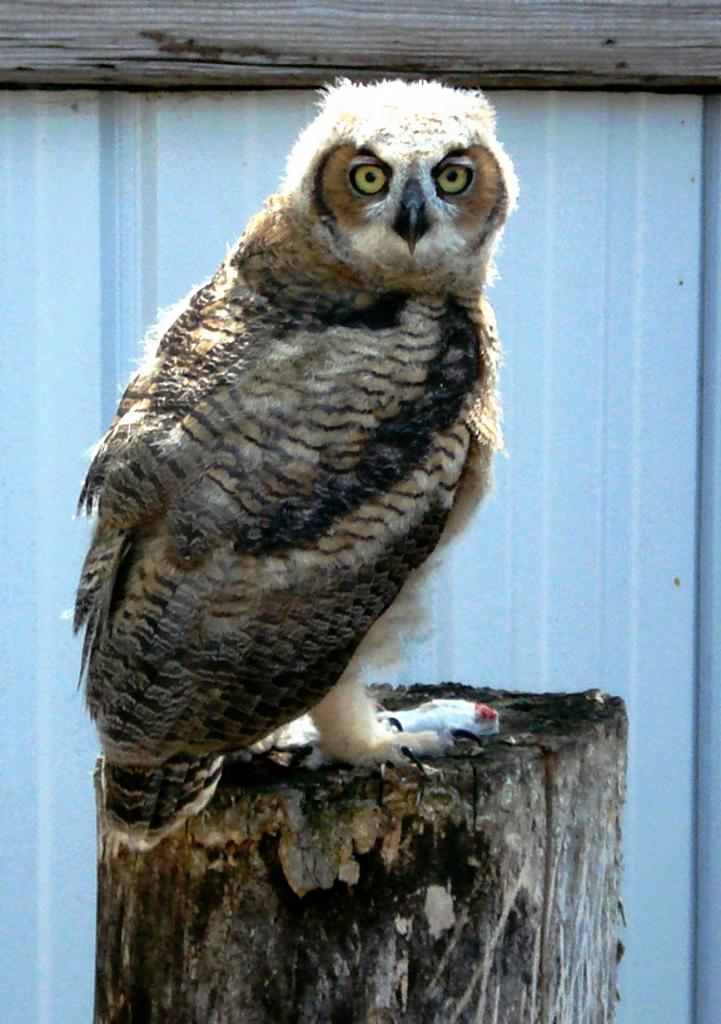Owl: (60, 74, 521, 852)
